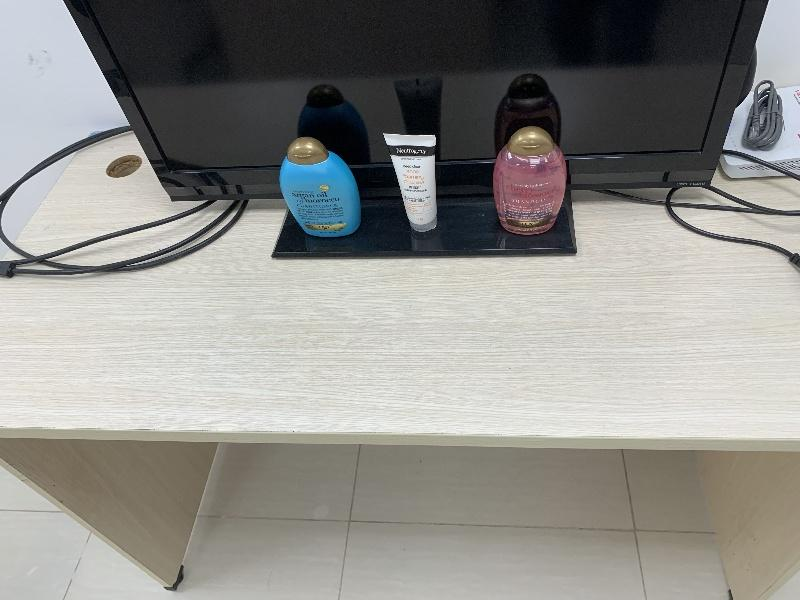AcneFoamingCleanser: (384, 134, 437, 232)
ArganOilOfMorocco_Conditioner: (279, 137, 361, 237)
CherryBlossom_Shampoo: (493, 126, 566, 235)
